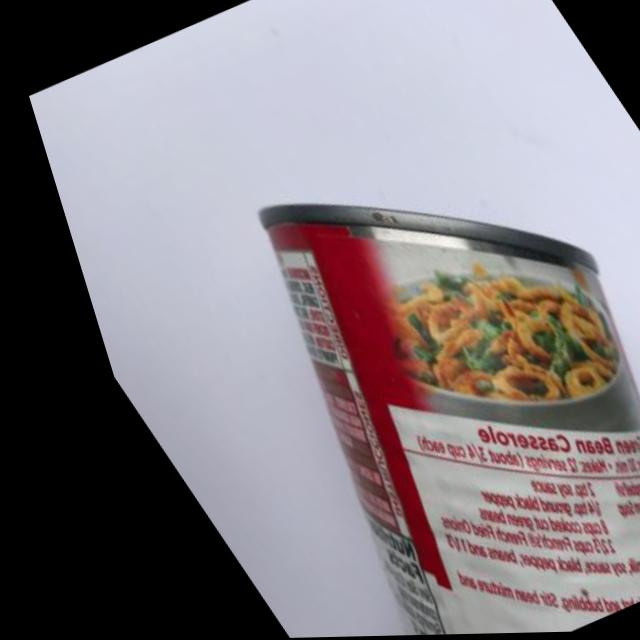metal: (73, 70, 640, 639)
